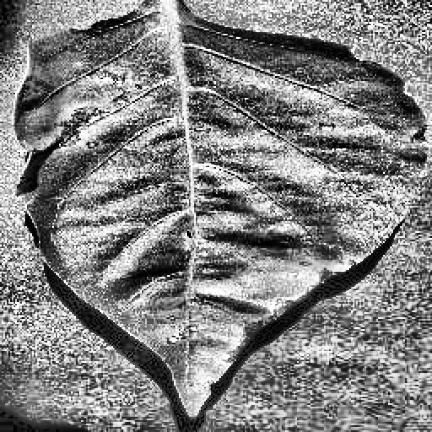leaf: (14, 0, 427, 417)
